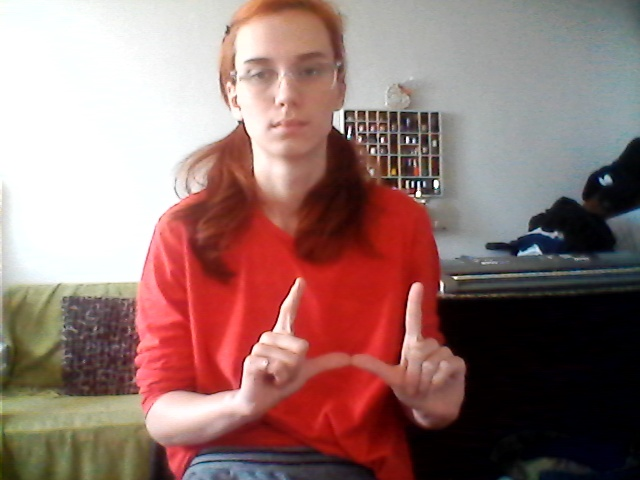u: (221, 267, 475, 423)
